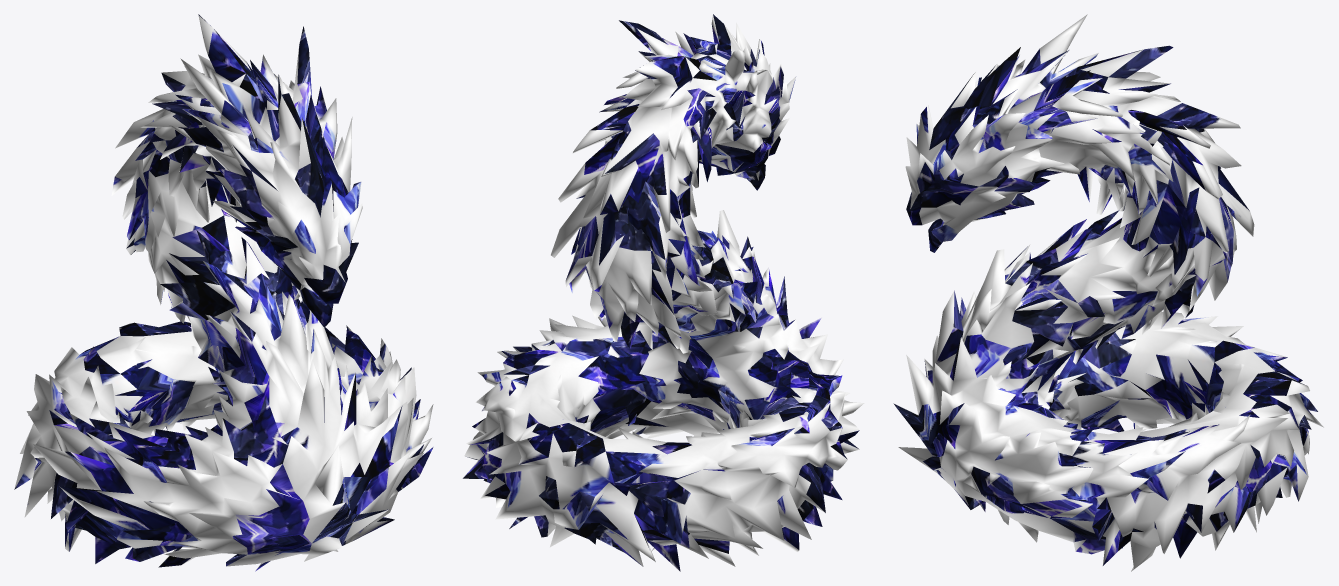
The model's file is black_ice_leviathan_basic_5k.fbx.
3 renders of one model, left to right at view 1: azimuth 30°, elevation 25°; view 2: azimuth 150°, elevation 25°; view 3: azimuth 270°, elevation 25°, orthographic. The views are drawn at different scales.
Parts seen in each view (by area): view 1: black_ice_leviathan_basic_decimated; view 2: black_ice_leviathan_basic_decimated; view 3: black_ice_leviathan_basic_decimated.
Part boxes in pixels (x1,y1,x2,y2): black_ice_leviathan_basic_decimated: [14, 14, 433, 571]; black_ice_leviathan_basic_decimated: [462, 14, 864, 571]; black_ice_leviathan_basic_decimated: [893, 14, 1323, 571].
Bounding box in the file's own units: 1.47 × 1.91 × 1.61.
